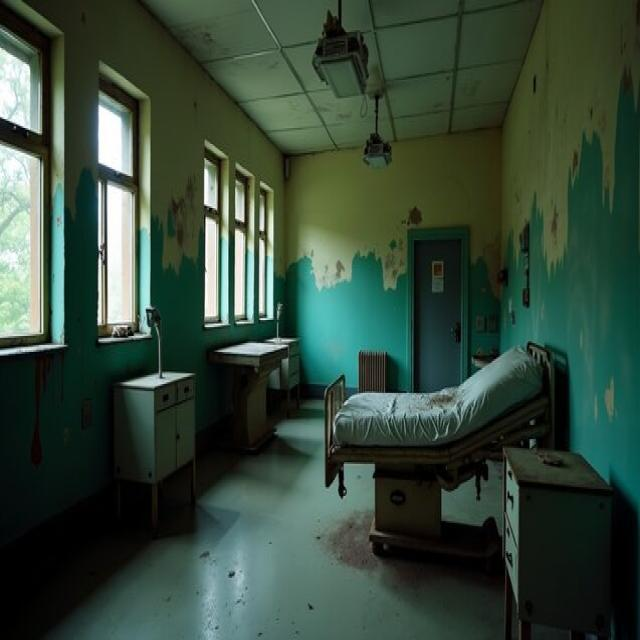bed: (322, 340, 556, 566)
